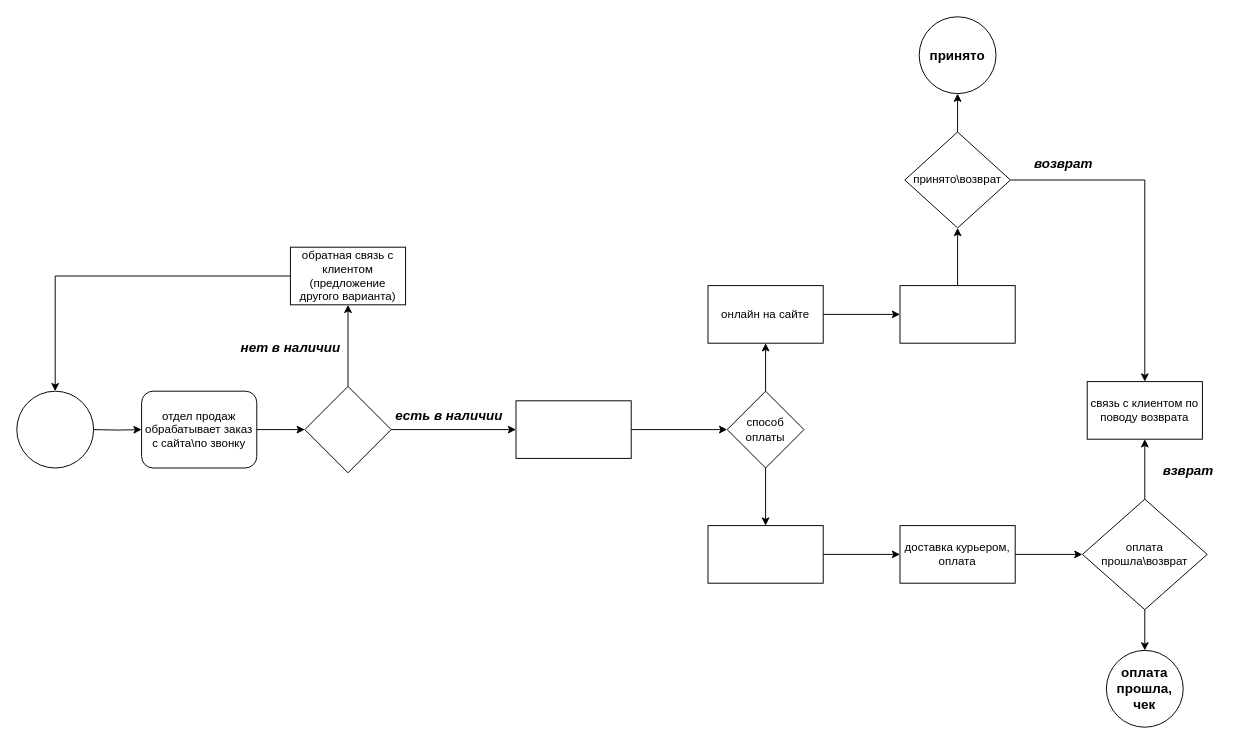
Image size: 1243x744. Some labels were removed from this diagram. The centre of each missing label's shape, as x and y in pixels:
"доставка курьером" belongs at point 957,314.
"запрос клиента" belongs at point 55,429.
"наличие на складе" belongs at point 347,429.
"наличкой при доставке" belongs at point 765,554.
"формирование заказа менеджером" belongs at point 573,429.
